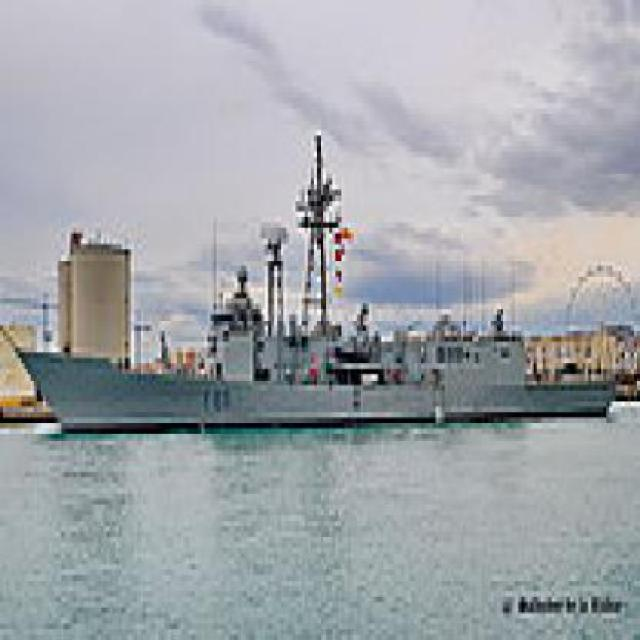warship2: (31, 142, 596, 457)
